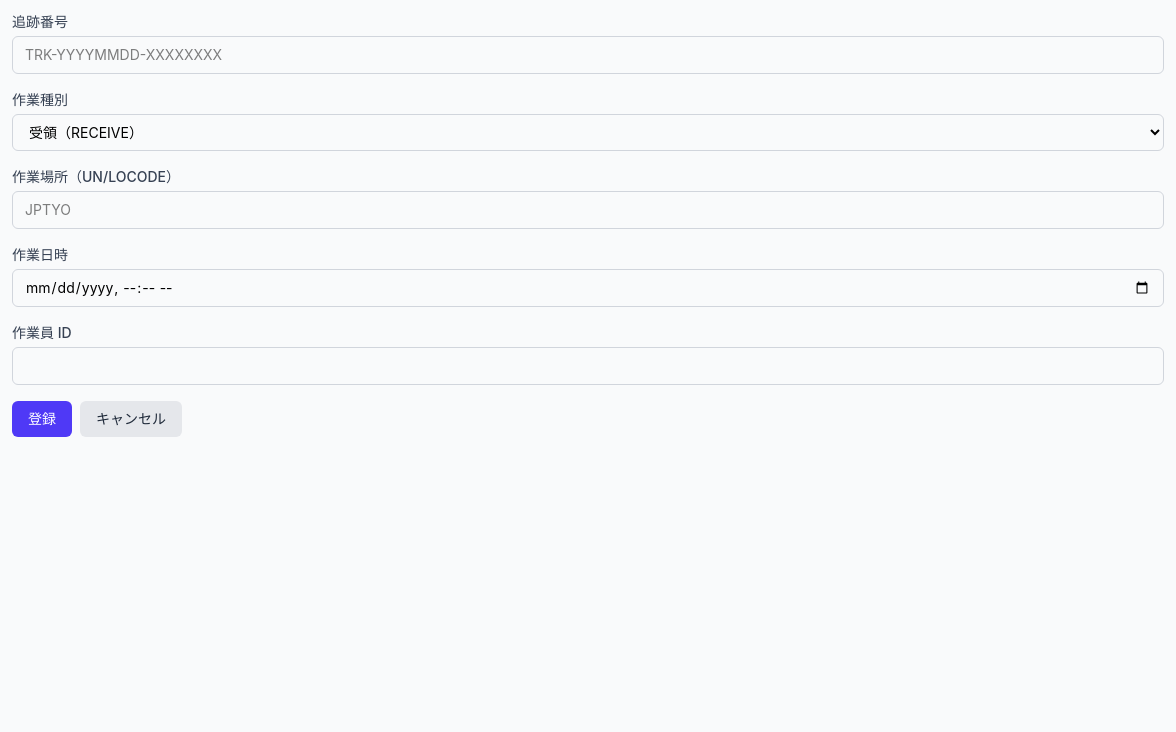
HandlingActivityForm › US15 受入3: LOAD 種別を選択すると航海番号フィールドが表示される
Select "積込（LOAD）" in the dropdown with test id "handling-type-select" at x=588, y=132, box [12,114,1164,151]
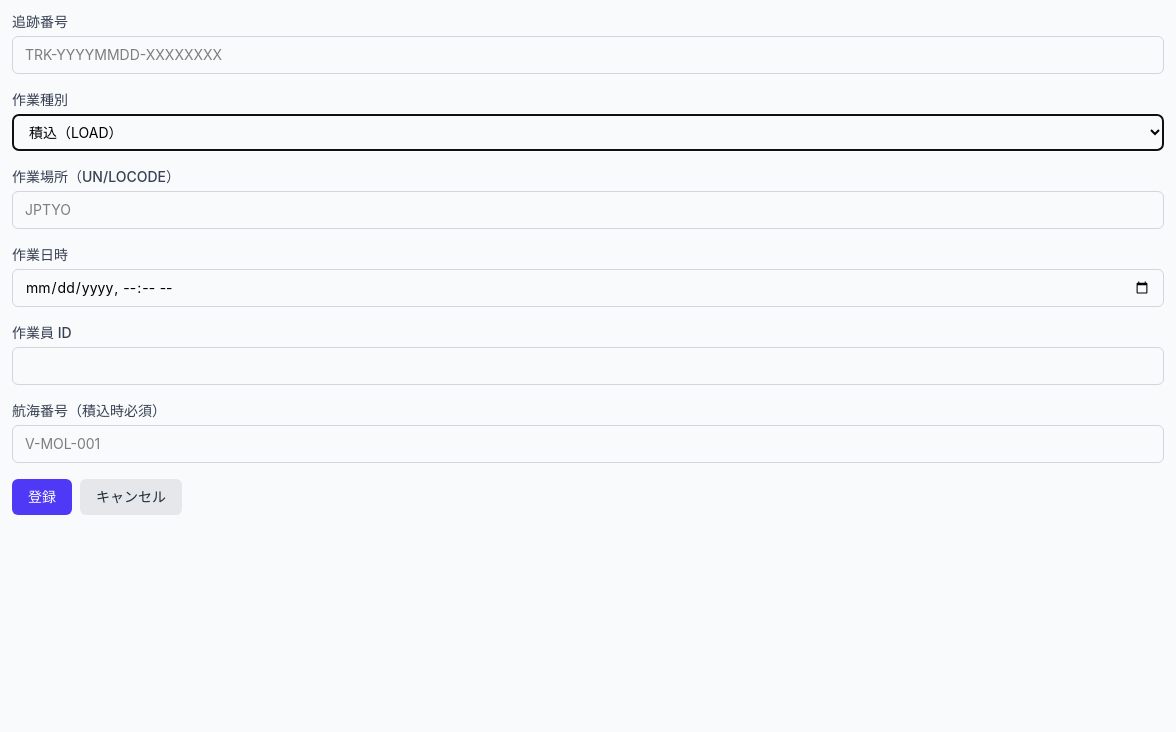
Check: the element with test id "handling-voyage-section" is shown, box [12,401,1164,463]
